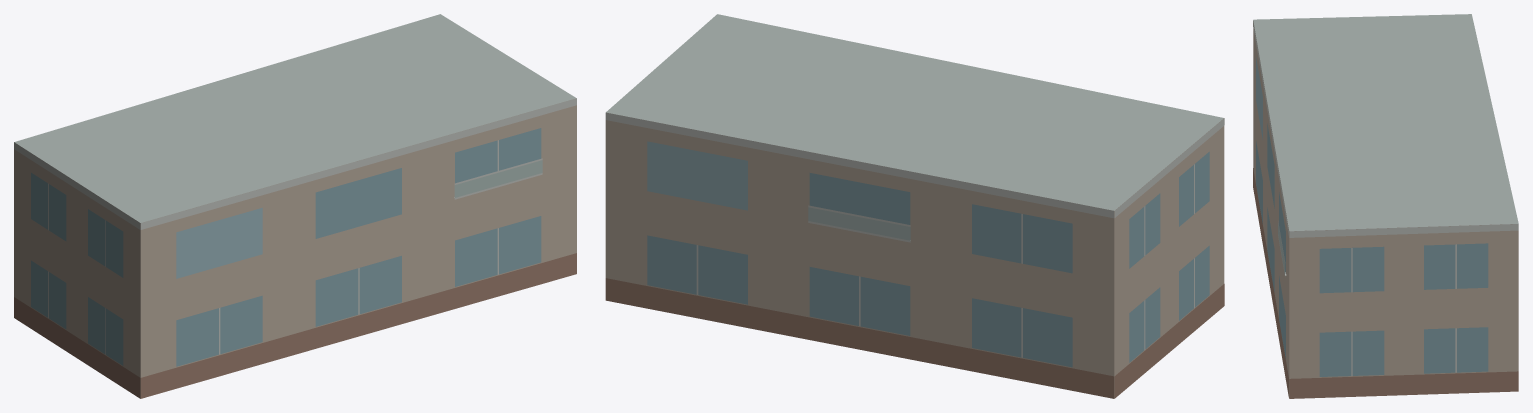
The model's file is survey-upis-32758986.glb.
3 views of the same model, side by side, from view 1: azimuth 30°, elevation 25°; view 2: azimuth 150°, elevation 25°; view 3: azimuth 270°, elevation 25° (orthographic). The views are drawn at different scales.
Visible parts, largest first — view 1: survey-upis-32758986.tmp; view 2: survey-upis-32758986.tmp; view 3: survey-upis-32758986.tmp.
Boxes of the visible parts, x1,y1,x2,y2 form: survey-upis-32758986.tmp: (14, 14, 576, 398); survey-upis-32758986.tmp: (605, 14, 1224, 398); survey-upis-32758986.tmp: (1253, 14, 1518, 398).
Size of the model in its own units: 16.97 by 6.1 by 8.77.
